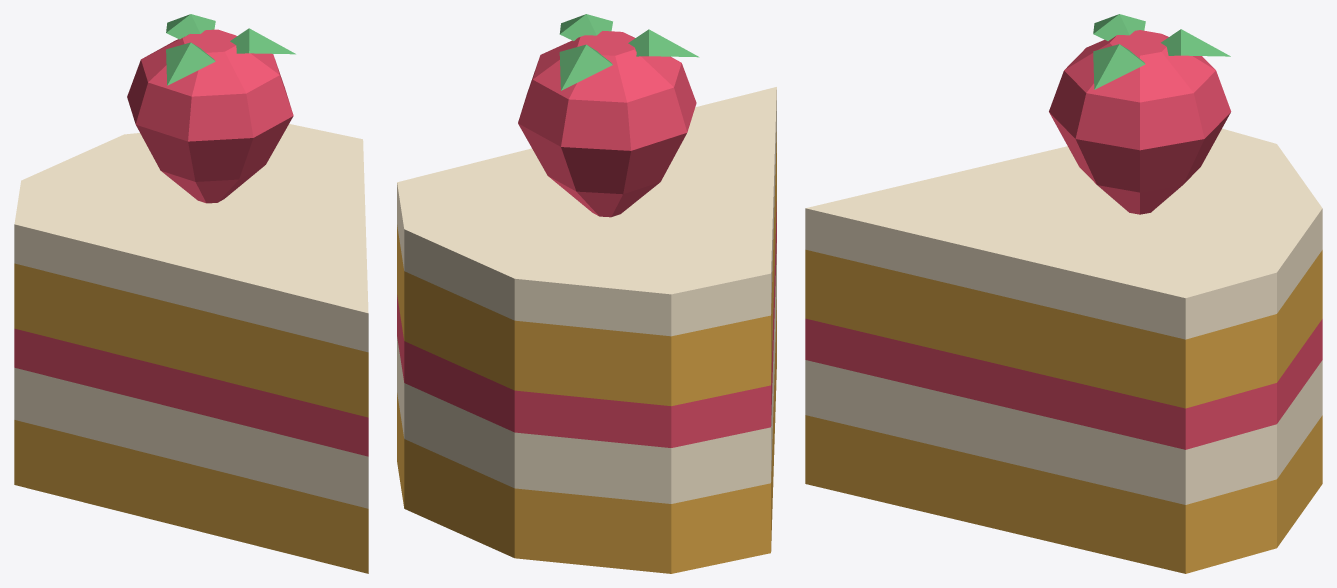
File: SNACK_STRAWBERRY_CAKE.fbx
The picture shows the model from 3 angles, left to right: view 1: azimuth 30°, elevation 25°; view 2: azimuth 150°, elevation 25°; view 3: azimuth 270°, elevation 25°; orthographic projection. The views are drawn at different scales.
Parts seen in each view (by area): view 1: SNACK_STRAWBERRY_CAKE; view 2: SNACK_STRAWBERRY_CAKE; view 3: SNACK_STRAWBERRY_CAKE.
Part boxes in pixels (bbox=[...]): SNACK_STRAWBERRY_CAKE: bbox=[14, 14, 368, 573]; SNACK_STRAWBERRY_CAKE: bbox=[397, 14, 776, 573]; SNACK_STRAWBERRY_CAKE: bbox=[805, 14, 1322, 573].
Size of the model in its own units: 2.8 by 3.3 by 3.4.
